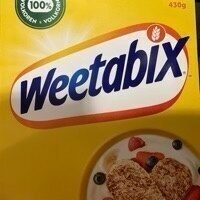Original: (10, 10, 190, 190)
